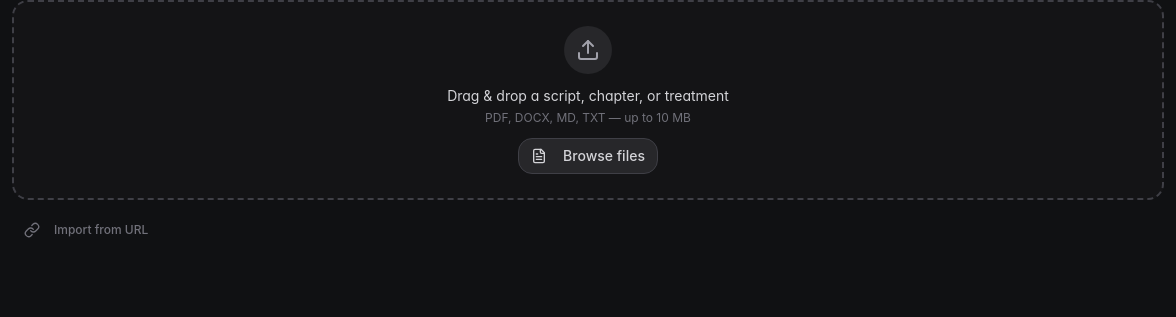
Test: StorylineDocumentUpload › shows URL input when toggle is clicked
Step 1. Click the button "Import from URL" → (86, 230), box [12,212,160,248]
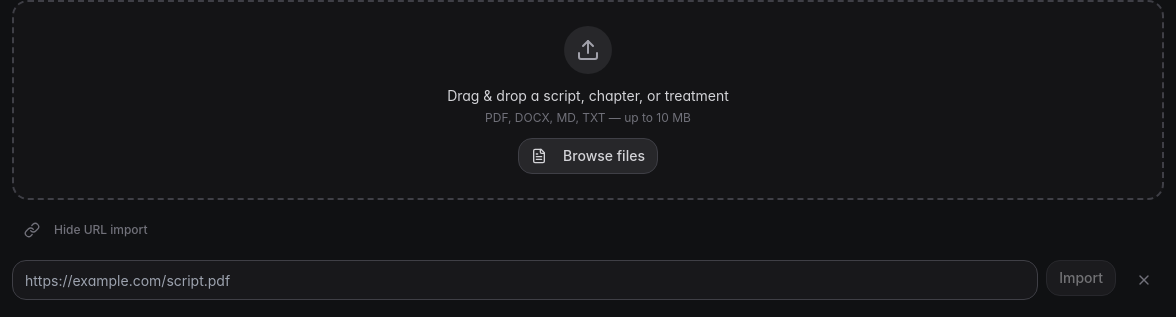
Now the field with placeholder "https://example.com/script.pdf" is shown, box [12,260,1038,300]
